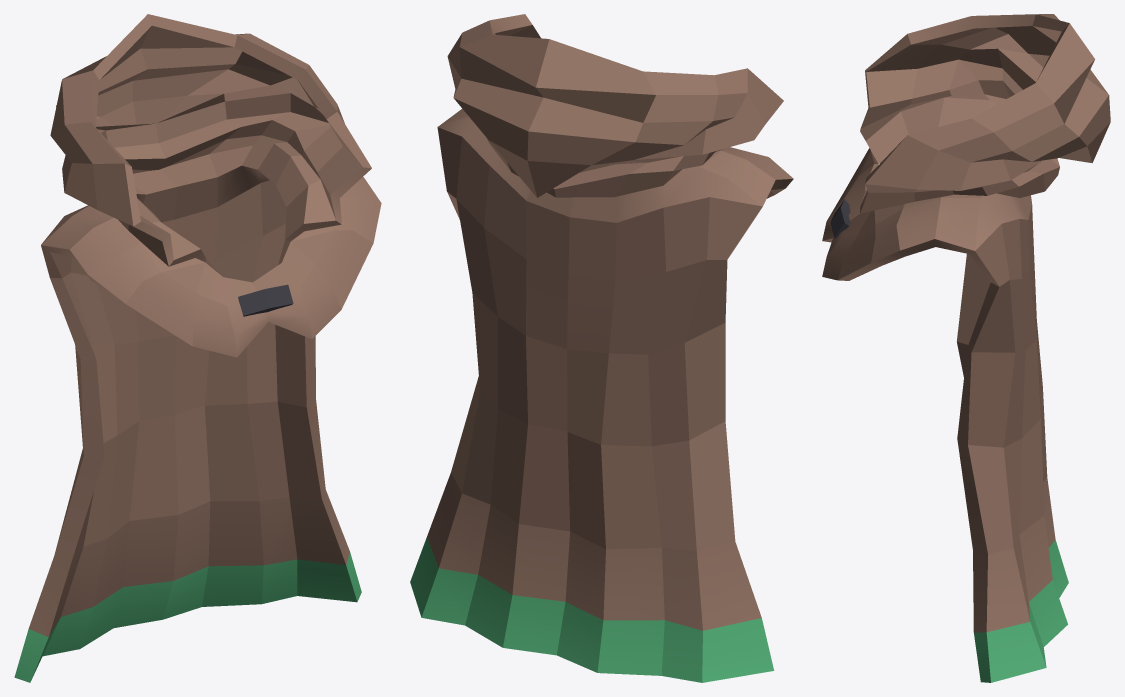
The model's file is armorCloakDisplay.fbx.
The picture shows the model from 3 angles, left to right: view 1: azimuth 30°, elevation 25°; view 2: azimuth 150°, elevation 25°; view 3: azimuth 270°, elevation 25°; orthographic projection. The views are drawn at different scales.
Parts seen in each view (by area): view 1: armorCloakDisplay; view 2: armorCloakDisplay; view 3: armorCloakDisplay.
Boxes of the visible parts, <box> form: armorCloakDisplay: <box>14,14,381,682</box>; armorCloakDisplay: <box>410,14,793,682</box>; armorCloakDisplay: <box>822,14,1110,682</box>.
Size of the model in its own units: 1.09 by 1.8 by 0.804.
Materials: 1 (1 with a texture image).
